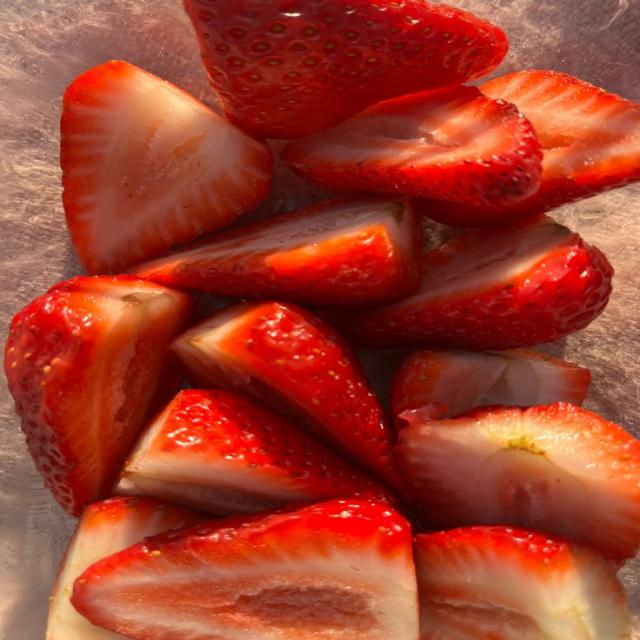strawberry sliced: (72, 500, 418, 639), (61, 61, 273, 273), (5, 276, 193, 514), (186, 0, 507, 139), (173, 302, 400, 487), (395, 404, 639, 558), (334, 216, 613, 349), (420, 71, 639, 228), (117, 390, 392, 515), (134, 196, 420, 305), (281, 87, 541, 206), (414, 526, 630, 639), (47, 498, 202, 639), (390, 350, 590, 419)
